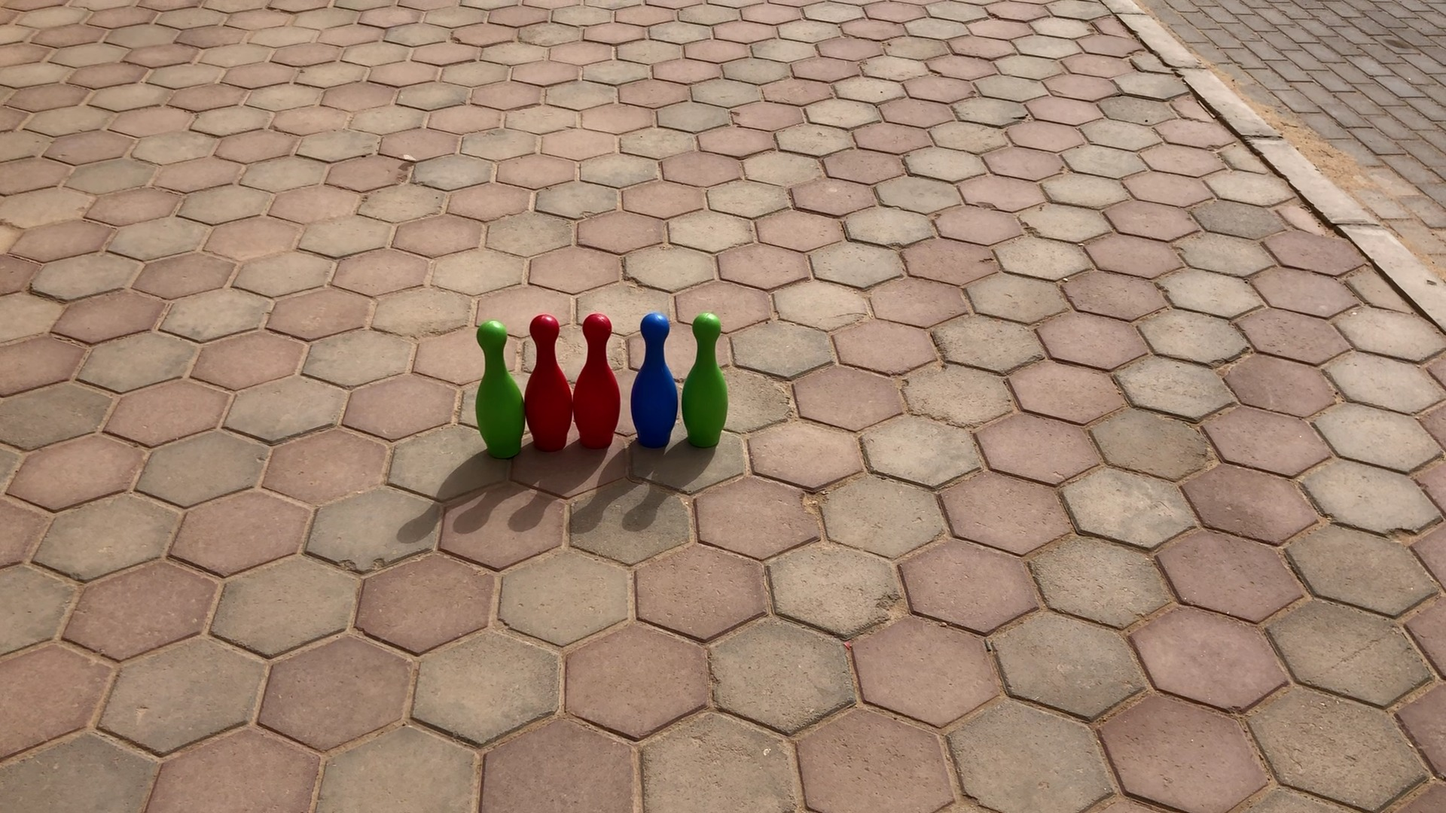bowling-pin: (480, 320, 528, 457), (573, 314, 622, 446), (635, 314, 682, 450), (683, 315, 728, 449), (531, 312, 575, 449)
